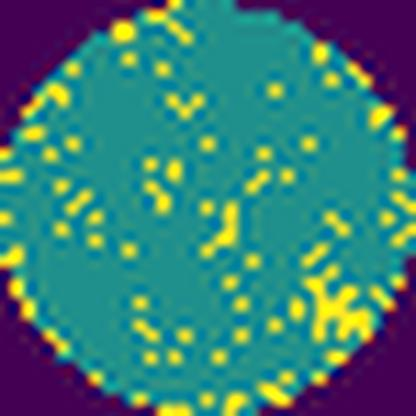Edge-Loc: (304, 260, 369, 338)
